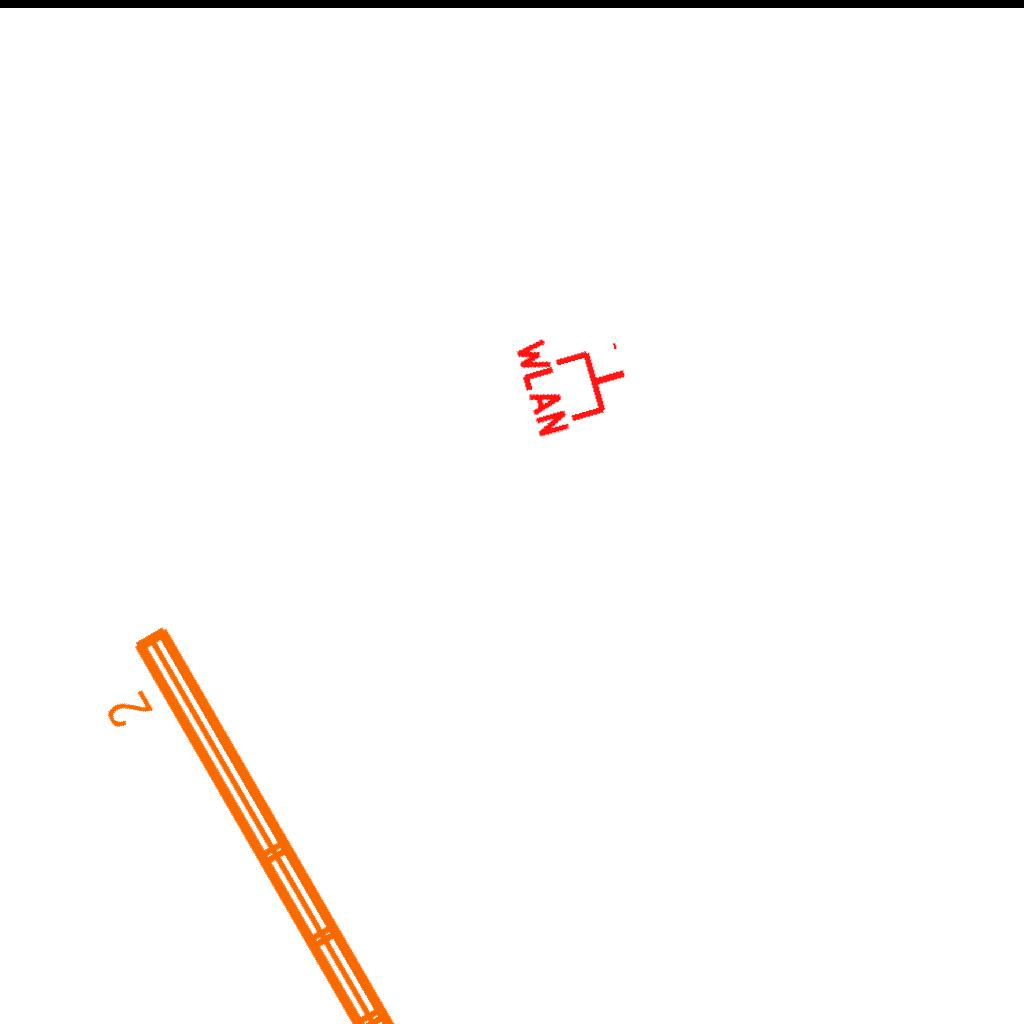Ambulanz_Pendelleuchte_LED: (74, 611, 558, 1024)
WLAN: (510, 313, 641, 443)
